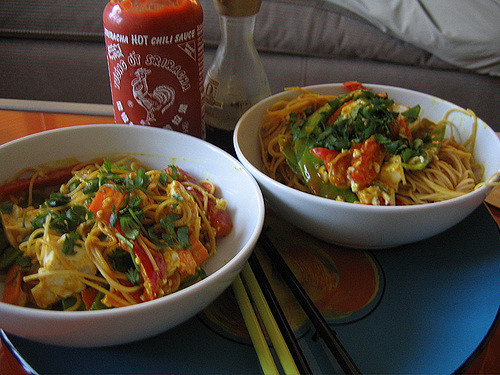plain spaghetti: (26, 168, 208, 277), (277, 109, 463, 199)
